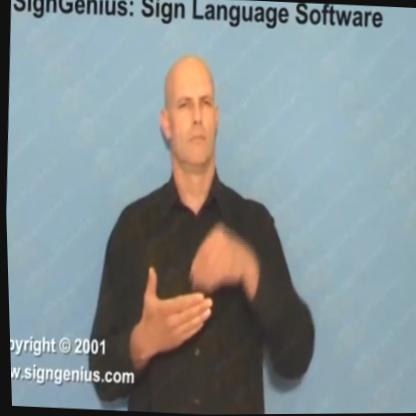Expensive: (119, 206, 256, 359)
